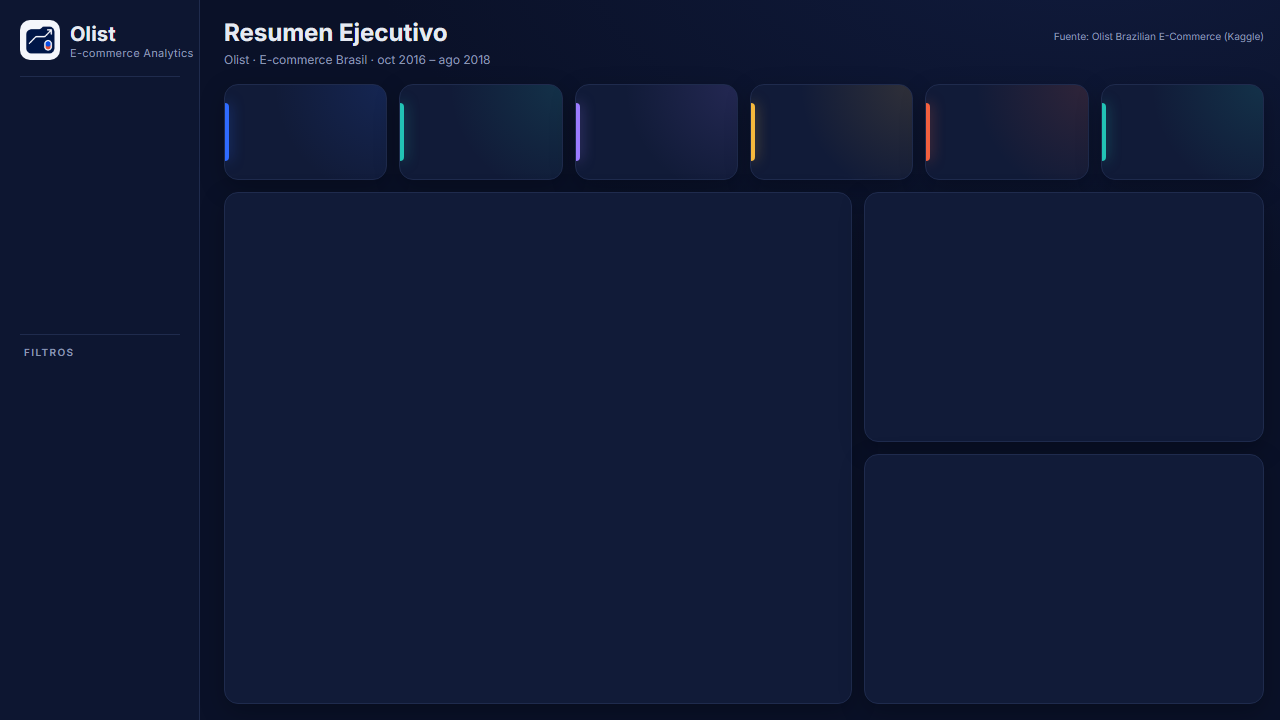

Layout of this report page (visuals, bound fields, positions):
{"tool":"powerbi","page":{"name":"✅ 1 \"Resumen Ejecutivo – Olist Brasil\"","canvas":[1280,720],"ordinal":0},"visuals":[{"type":"card","title":"Total Ventas","fields":{"Values":["df_nuevas_columnas.Total Ventas"]},"box":[315,160,291.7,103.3],"z":0},{"type":"slicer","title":"Año Compra","fields":{"Values":["df_nuevas_columnas.Año Compra"]},"box":[36.7,128.3,241.7,130],"z":1000},{"type":"slicer","title":"Cliente ","fields":{"Values":["df_nuevas_columnas.Cliente Recurrente"]},"box":[35,273.3,241.7,130],"z":2000},{"type":"slicer","title":"Categoría","fields":{"Values":["df_nuevas_columnas.product_category_name_es"]},"box":[38.3,565,241.7,138.3],"z":3000},{"type":"textbox","box":[52,10,555,107],"z":4000},{"type":"card","title":"Ticket Promedio","fields":{"Values":["df_nuevas_columnas.Ticket Promedio"]},"box":[315,556.7,291.7,105],"z":5000},{"type":"card","title":"Pedidos Totales","fields":{"Values":["df_nuevas_columnas.Total Pedidos"]},"box":[315,421.7,291.7,105],"z":6000},{"type":"card","title":"Valor Total de Envios","fields":{"Values":["df_nuevas_columnas.Freight_Sum"]},"box":[315,290,291.7,105],"z":7000},{"type":"azureMap","title":"Distribución de Pedidos por Estado","fields":{"Category":["df_nuevas_columnas.Estado Completo"],"Series":["df_nuevas_columnas.customer_region"]},"box":[640,117.1,610,588.6],"z":8000},{"type":"slicer","title":"Precio","fields":{"Values":["df_nuevas_columnas.price"]},"box":[35,416.7,241.7,135],"z":9000},{"type":"actionButton","box":[740.2,74.4,91.2,36],"z":10000},{"type":"actionButton","box":[835.6,74,92.2,35.6],"z":11000},{"type":"actionButton","box":[933.3,74,91.1,36.7],"z":12000},{"type":"actionButton","box":[1028.9,74,91.1,36.7],"z":13000},{"type":"actionButton","box":[1124.4,74,91.1,35.6],"z":14000},{"type":"actionButton","box":[642.9,74.3,91.4,37.1],"z":15000},{"type":"textbox","box":[835.7,31.4,190,42.9],"z":17000}]}

Visuals, with their boxes on the page's 1280x720 design canvas (x1, y1, x2, y2). These are canvas units, not pixel positions in the 1280x720 screenshot, which may show the page scaled, cropped or inside an application window:
"Total Ventas" card: (315, 160, 607, 263)
"Año Compra" slicer: (37, 128, 278, 258)
"Cliente " slicer: (35, 273, 277, 403)
"Categoría" slicer: (38, 565, 280, 703)
textbox: (52, 10, 607, 117)
"Ticket Promedio" card: (315, 557, 607, 662)
"Pedidos Totales" card: (315, 422, 607, 527)
"Valor Total de Envios" card: (315, 290, 607, 395)
"Distribución de Pedidos por Estado" azureMap: (640, 117, 1250, 706)
"Precio" slicer: (35, 417, 277, 552)
actionButton: (740, 74, 831, 110)
actionButton: (836, 74, 928, 110)
actionButton: (933, 74, 1024, 111)
actionButton: (1029, 74, 1120, 111)
actionButton: (1124, 74, 1216, 110)
actionButton: (643, 74, 734, 111)
textbox: (836, 31, 1026, 74)
